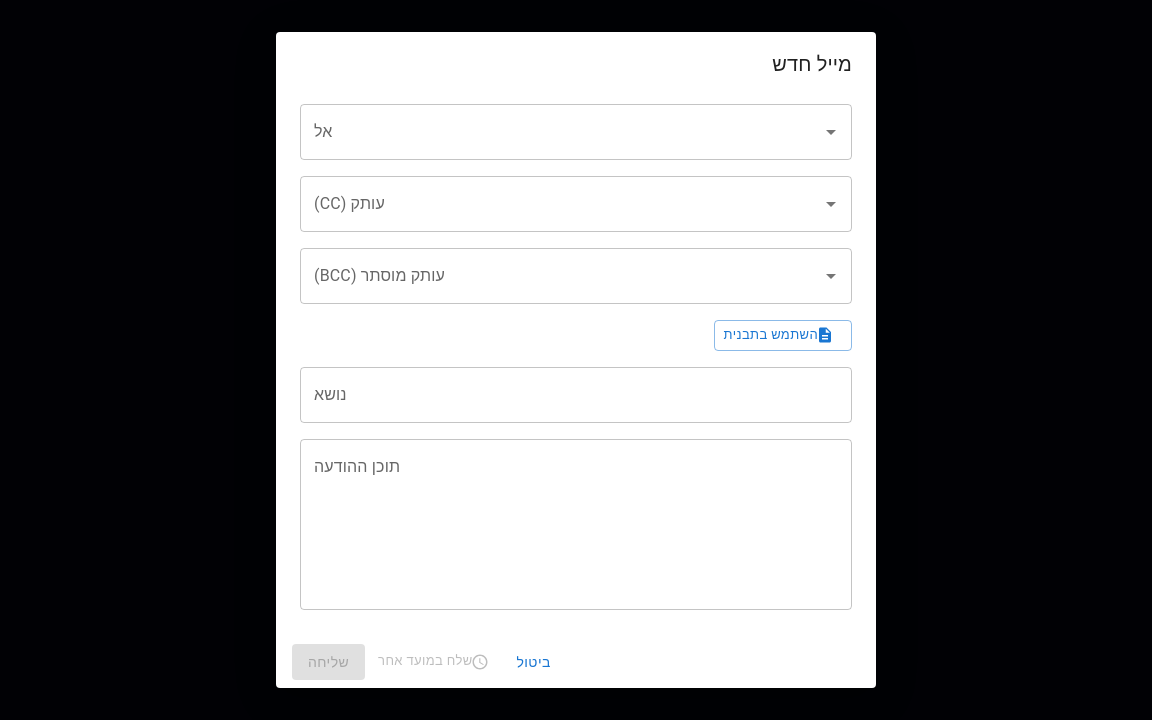
Test: EmailComposeModal › template picker (TODO_SPEC.md "משימה 12") › opens a picker listing templates from GET /api/email-templates when 'השתמש בתבנית' is clicked
Click the button "השתמש בתבנית" at [783, 335], box x1=714 y1=320 x2=852 y2=351
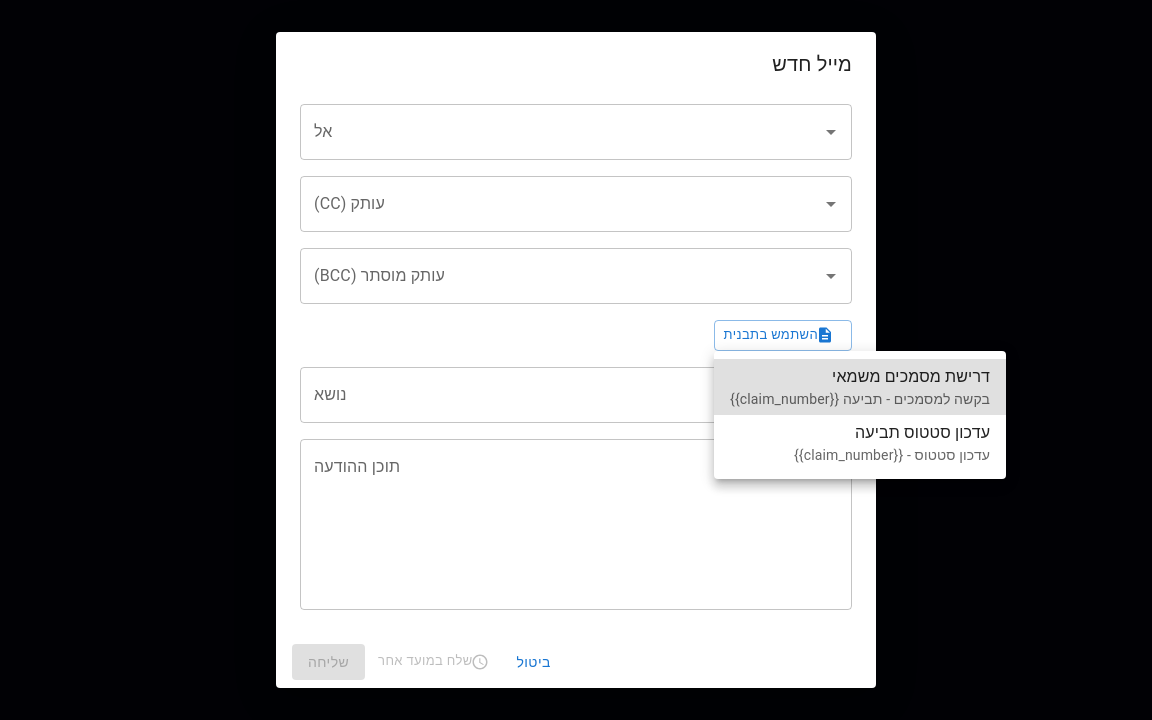
Expected: the text "דרישת מסמכים משמאי" is shown, x1=832 y1=367 x2=990 y2=386
Expected: the text "עדכון סטטוס תביעה" is shown, x1=855 y1=423 x2=990 y2=442
